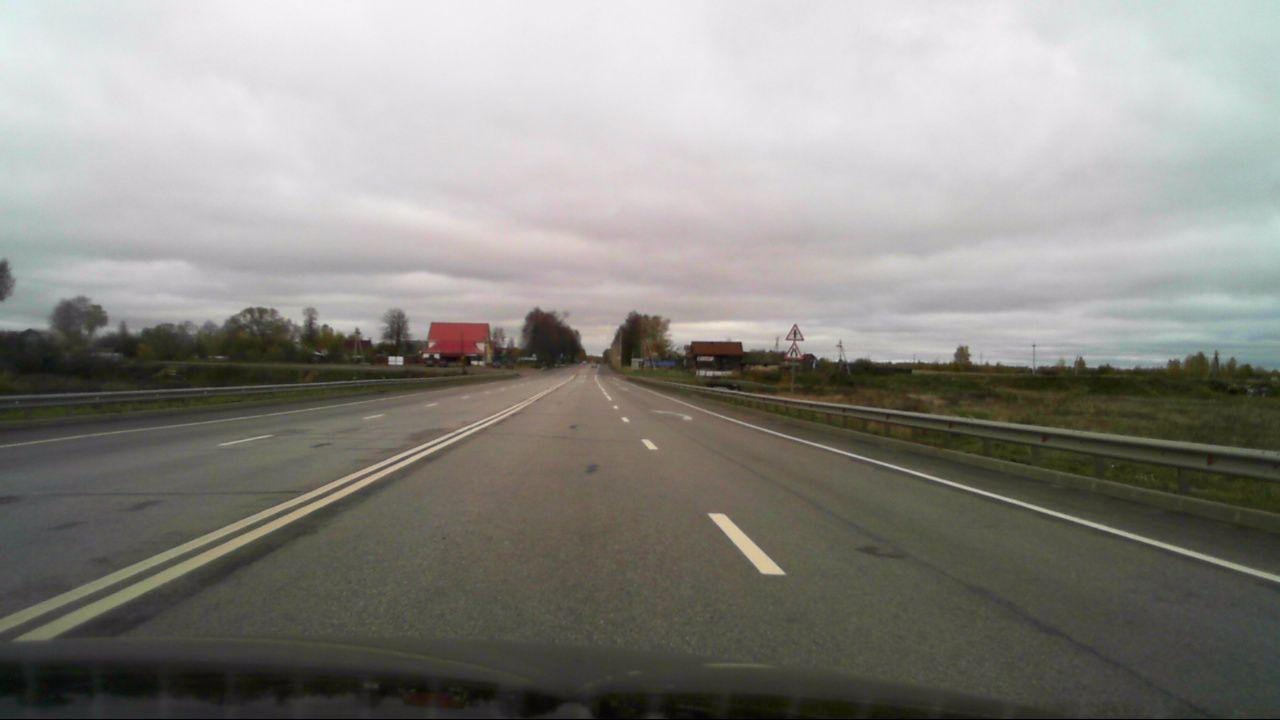1_20_1: (783, 343, 804, 360)
2_3_1: (785, 323, 804, 342)
